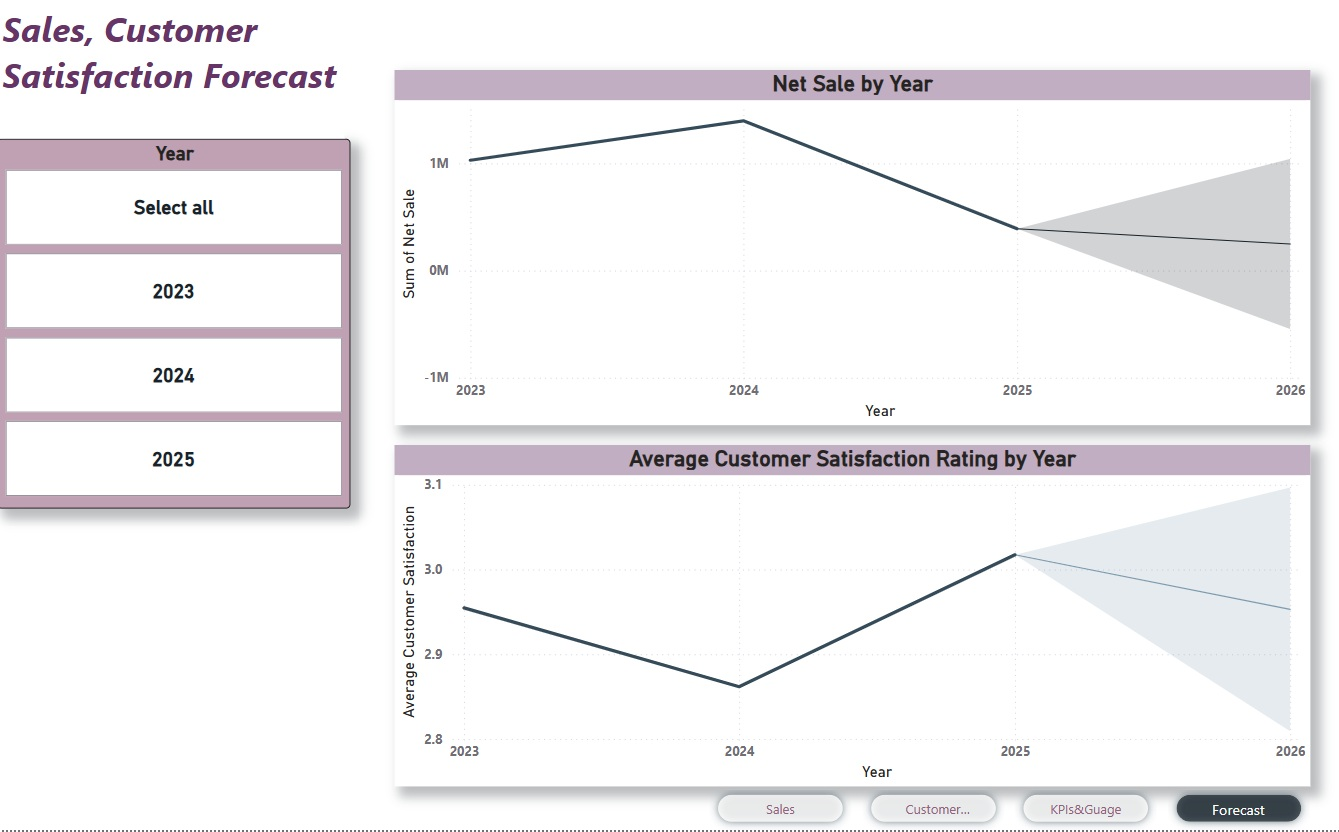

The dashboard page shown, as its layout file describes it:
{"tool":"powerbi","page":{"name":"Forecast","canvas":[1280,773],"ordinal":3},"visuals":[{"type":"lineChart","title":" Net Sale by Year","fields":{"Y":["Sum(retail_sales_customer_satisfact.Net Sale)"],"Category":["retail_sales_customer_satisfact.Purchase_Date.Variation.Date Hierarchy.Year","retail_sales_customer_satisfact.Purchase_Date.Variation.Date Hierarchy.Quarter","retail_sales_customer_satisfact.Purchase_Date.Variation.Date Hierarchy.Month","retail_sales_customer_satisfact.Purchase_Date.Variation.Date Hierarchy.Day"]},"box":[369.8,65.1,852.3,330.2],"z":0},{"type":"lineChart","title":"Average Customer Satisfaction Rating by Year","fields":{"Category":["retail_sales_customer_satisfact.Purchase_Date.Variation.Date Hierarchy.Year","retail_sales_customer_satisfact.Purchase_Date.Variation.Date Hierarchy.Quarter","retail_sales_customer_satisfact.Purchase_Date.Variation.Date Hierarchy.Month","retail_sales_customer_satisfact.Purchase_Date.Variation.Date Hierarchy.Day"],"Y":["Avg(retail_sales_customer_satisfact.Customer_Satisfaction_Rating)"]},"box":[369.8,414,852.3,317.4],"z":1000},{"type":"advancedSlicerVisual","fields":{"Values":["retail_sales_customer_satisfact.Purchase_Date.Variation.Date Hierarchy.Year"]},"box":[0,129.1,329.1,344.2],"z":2000},{"type":"pageNavigator","box":[662.8,731.4,559.3,41.9],"z":4000},{"type":"textbox","box":[0,0,323.3,129.1],"z":6001}]}

Visuals, with their boxes in screenshot pixels (x1, y1, x2, y2), scaled from the page's 1280x773 canvas onto the 1339x832 screenshot:
" Net Sale by Year" lineChart: 387,70,1278,425
"Average Customer Satisfaction Rating by Year" lineChart: 387,446,1278,787
advancedSlicerVisual - retail_sales_customer_satisfact.Purchase_Date.Variation.Date Hierarchy.Year: 0,139,344,509
pageNavigator: 693,787,1278,831
textbox: 0,0,338,139
